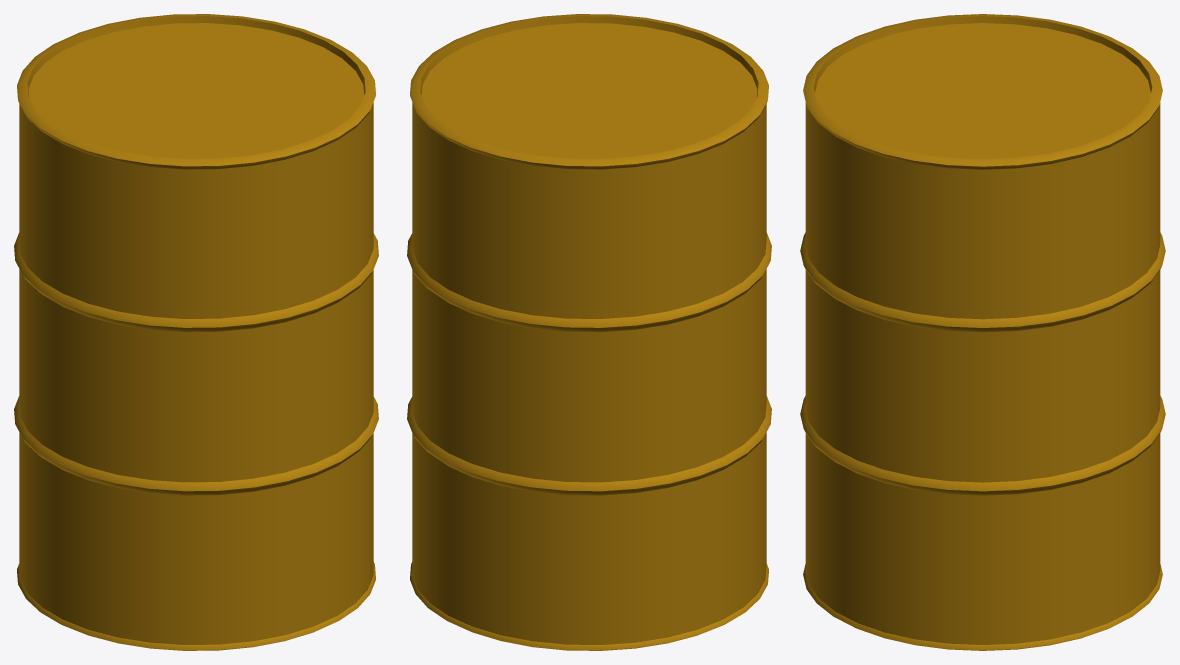
The model's file is Radioactive_barrel.fbx.
3 renders of one model, left to right at view 1: azimuth 30°, elevation 25°; view 2: azimuth 150°, elevation 25°; view 3: azimuth 270°, elevation 25°, orthographic.
Parts seen in each view (by area): view 1: Sud.001; view 2: Sud.001; view 3: Sud.001.
Boxes of the visible parts, x1,y1,x2,y2 form: Sud.001: [14, 14, 378, 650]; Sud.001: [407, 14, 771, 650]; Sud.001: [800, 14, 1165, 650].
Bounding box in the file's own units: 197 × 291 × 197.
